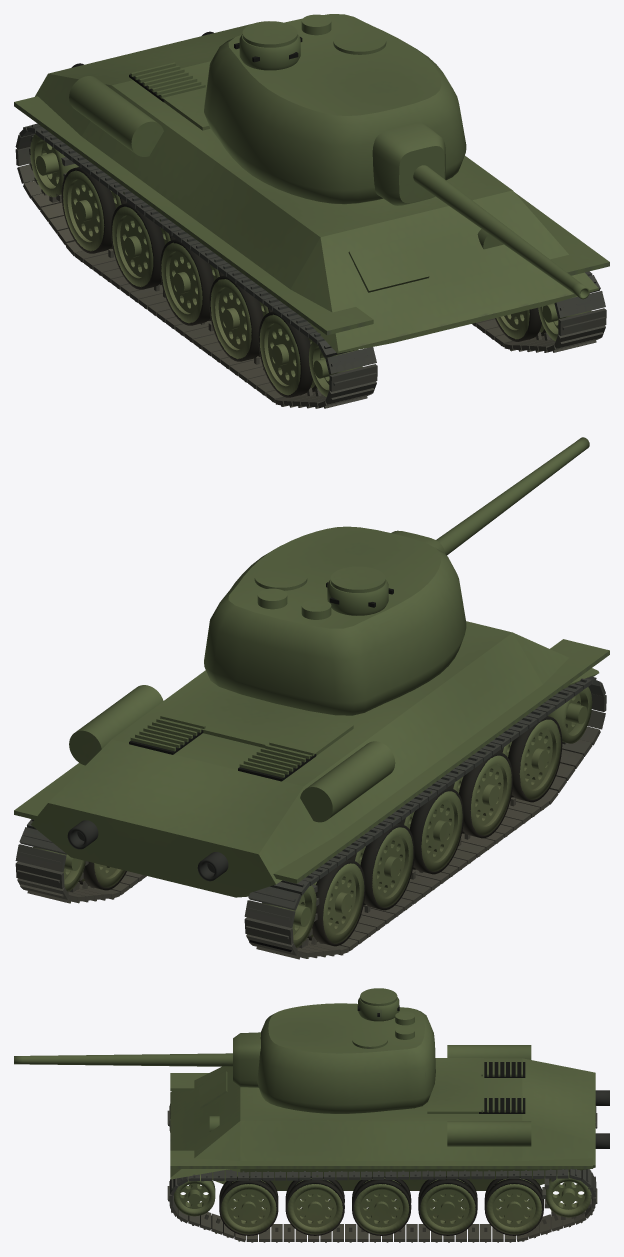
The picture shows the model from 3 angles, top to bottom: view 1: azimuth 30°, elevation 25°; view 2: azimuth 150°, elevation 25°; view 3: azimuth 270°, elevation 25°; orthographic projection. The views are drawn at different scales.
Parts seen in each view (by area): view 1: HullGeometry, TurretGeometry, TrackLeft, Fender, GunMantlet, FuelDrum, TrackRight, GunBarrel, Wheel_-1_4_1, Wheel_-1_3_1, Wheel_-1_0_1, Wheel_-1_2_1 (+12 smaller); view 2: HullGeometry, TurretGeometry, TrackLeft, Fender, EngineAccessPanel, TrackRight, FuelDrum, Wheel_-1_3_1, Wheel_-1_2_1, Wheel_-1_4_1, Wheel_-1_1_1, Wheel_-1_0_1 (+9 smaller); view 3: HullGeometry, TurretGeometry, TrackRight, Fender.001, EngineAccessPanel, Wheel_1_3_1, Wheel_1_4_1, Wheel_1_1_1, Wheel_1_0_1, Wheel_1_2_1, GunBarrel, FuelDrum.001 (+16 smaller).
Boxes of the visible parts, bbox=[...] form: HullGeometry: bbox=[35, 24, 599, 353]; TurretGeometry: bbox=[204, 14, 466, 204]; TrackLeft: bbox=[15, 123, 377, 408]; Fender: bbox=[14, 96, 373, 335]; GunMantlet: bbox=[372, 123, 445, 205]; FuelDrum: bbox=[69, 76, 163, 156]; TrackRight: bbox=[472, 271, 606, 352]; GunBarrel: bbox=[413, 165, 589, 299]; Wheel_-1_4_1: bbox=[61, 167, 115, 253]; Wheel_-1_3_1: bbox=[111, 203, 164, 289]; Wheel_-1_0_1: bbox=[258, 311, 312, 397]; Wheel_-1_2_1: bbox=[160, 239, 214, 325]; HullGeometry: bbox=[31, 621, 599, 897]; TurretGeometry: bbox=[204, 526, 466, 715]; TrackLeft: bbox=[244, 676, 606, 959]; Fender: bbox=[273, 639, 609, 883]; EngineAccessPanel: bbox=[161, 688, 353, 756]; TrackRight: bbox=[15, 819, 146, 903]; FuelDrum: bbox=[300, 741, 395, 822]; Wheel_-1_3_1: bbox=[360, 823, 414, 910]; Wheel_-1_2_1: bbox=[409, 787, 463, 874]; Wheel_-1_4_1: bbox=[312, 859, 365, 946]; Wheel_-1_1_1: bbox=[459, 752, 512, 838]; Wheel_-1_0_1: bbox=[508, 716, 562, 802]; HullGeometry: bbox=[170, 1058, 595, 1190]; TurretGeometry: bbox=[257, 1003, 435, 1113]; TrackRight: bbox=[167, 1169, 597, 1242]; Fender.001: bbox=[170, 1150, 592, 1168]; EngineAccessPanel: bbox=[427, 1062, 484, 1113]; Wheel_1_3_1: bbox=[418, 1178, 477, 1235]; Wheel_1_4_1: bbox=[484, 1179, 543, 1235]; Wheel_1_1_1: bbox=[285, 1178, 344, 1235]; Wheel_1_0_1: bbox=[219, 1178, 278, 1235]; Wheel_1_2_1: bbox=[352, 1178, 411, 1235]; GunBarrel: bbox=[14, 1053, 232, 1066]; FuelDrum.001: bbox=[447, 1121, 531, 1146].
Bounding box in the file's own units: 3.09 × 2.9 × 8.35.
1 material, 1 textured.
